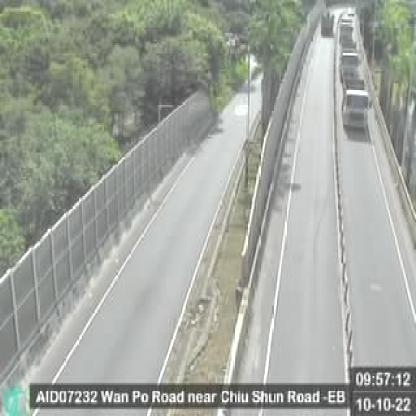Truck: (342, 85, 370, 136), (340, 51, 360, 87)
